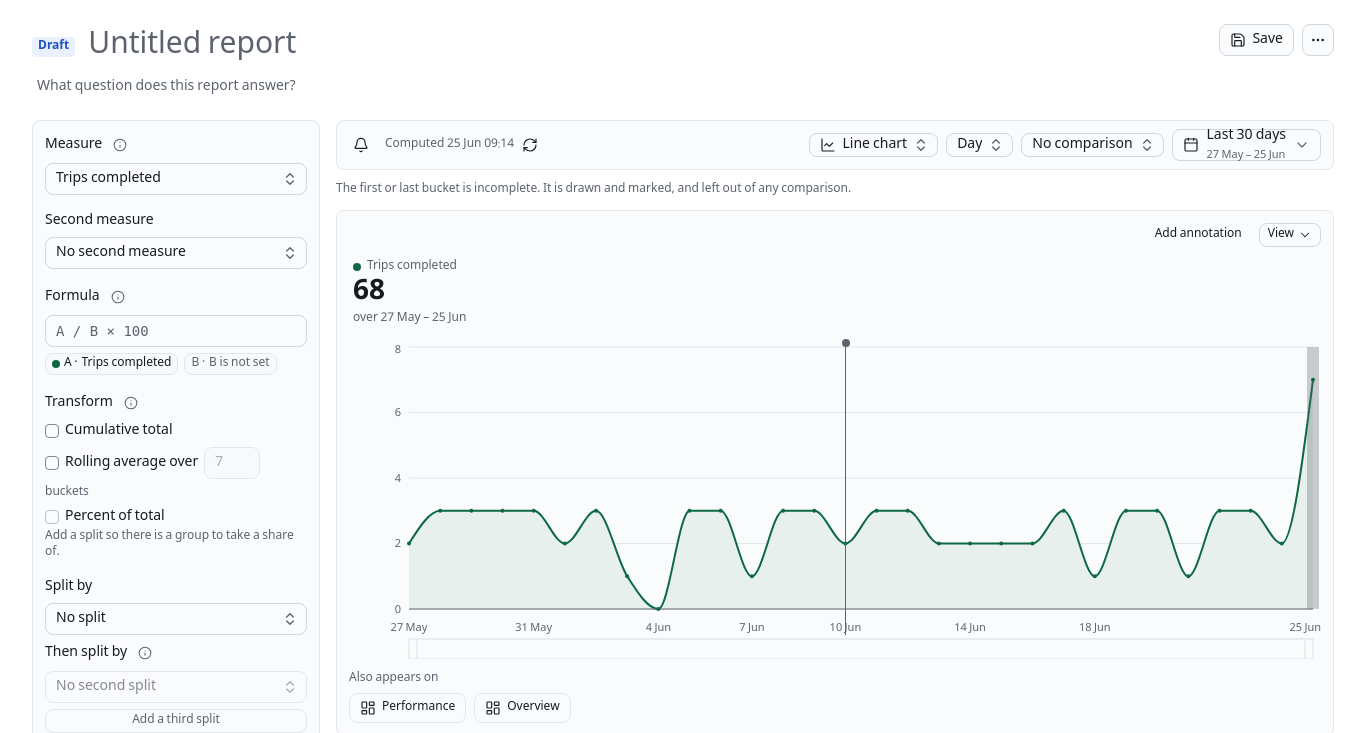
Test: §3.7 — the range popover offers presets AND inputs AND two months AND Apply › offers all thirteen presets, with a pressed state on the live one
This screenshot has width=1366, height=733.
Click the button with aria-label "Date range". click: x=1246, y=145
box: [1172,129,1321,161]
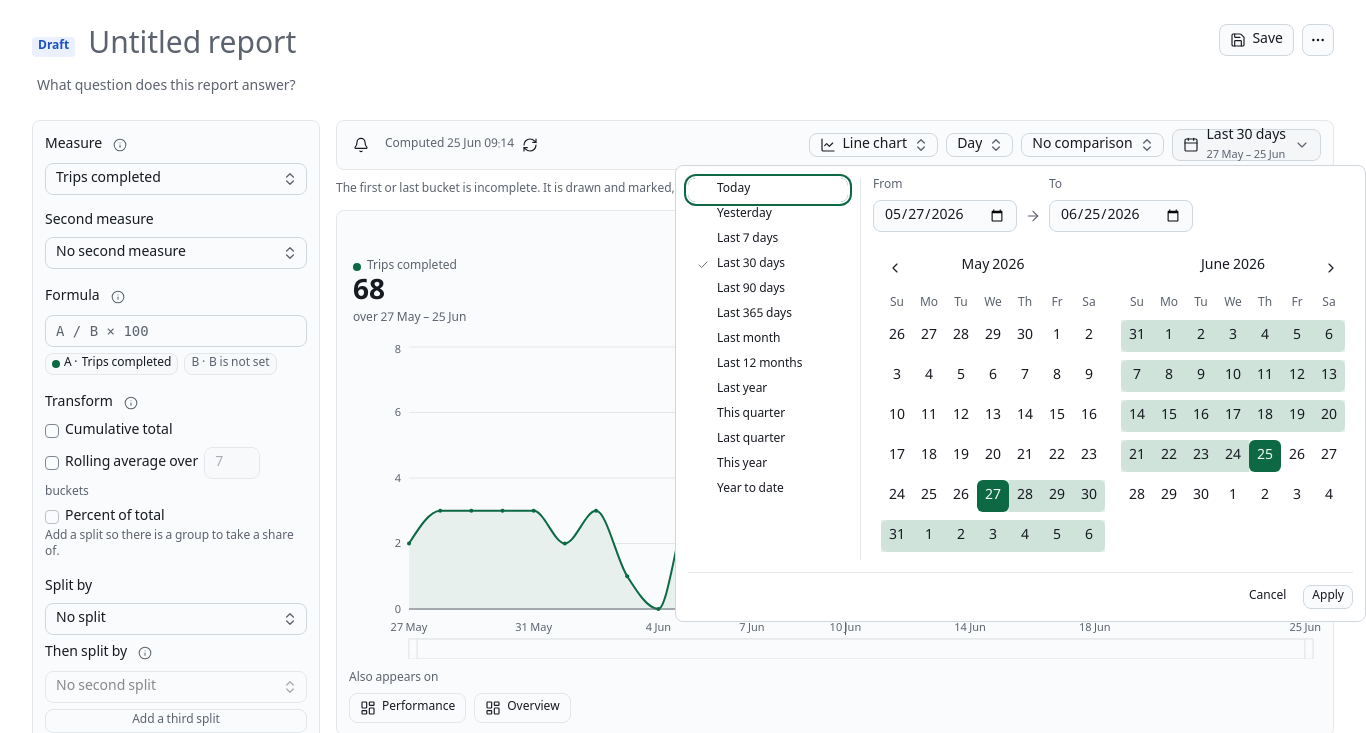
Expected: the button "Today" is shown, [688,178,848,202]
Expected: the button "Yesterday" is shown, [688,203,848,227]
Expected: the button "Last 7 days" is shown, [688,228,848,252]
